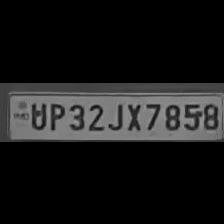2: (85, 99, 105, 130)
3: (66, 99, 84, 130)
5: (182, 99, 200, 130)
7: (142, 99, 160, 130)
8: (161, 100, 181, 130), (200, 100, 220, 130)
J: (106, 99, 124, 130)
P: (46, 99, 64, 130)
U: (27, 99, 46, 129)
X: (123, 99, 143, 131)
